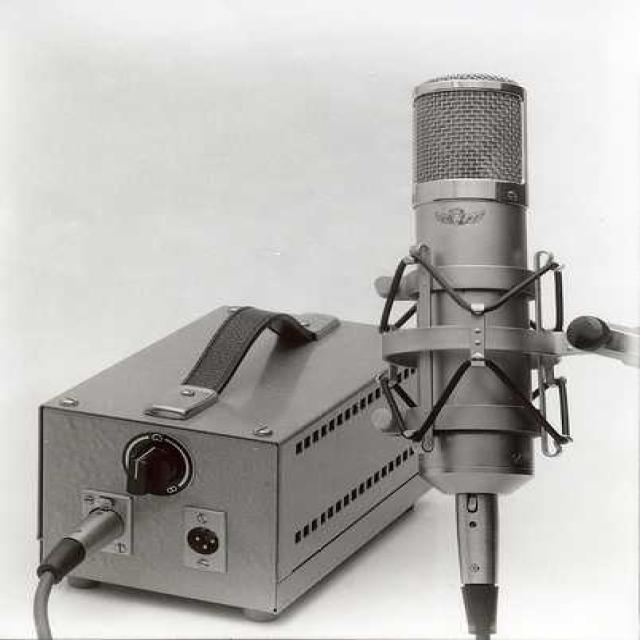microphone: (390, 77, 552, 497)
